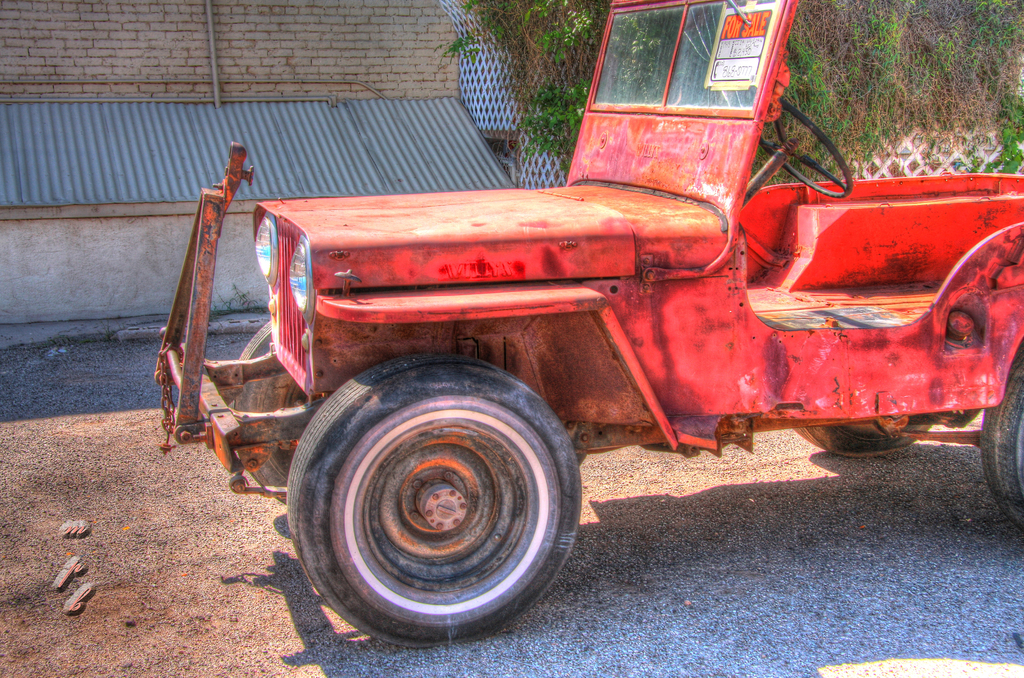Car: (127, 89, 992, 607)
